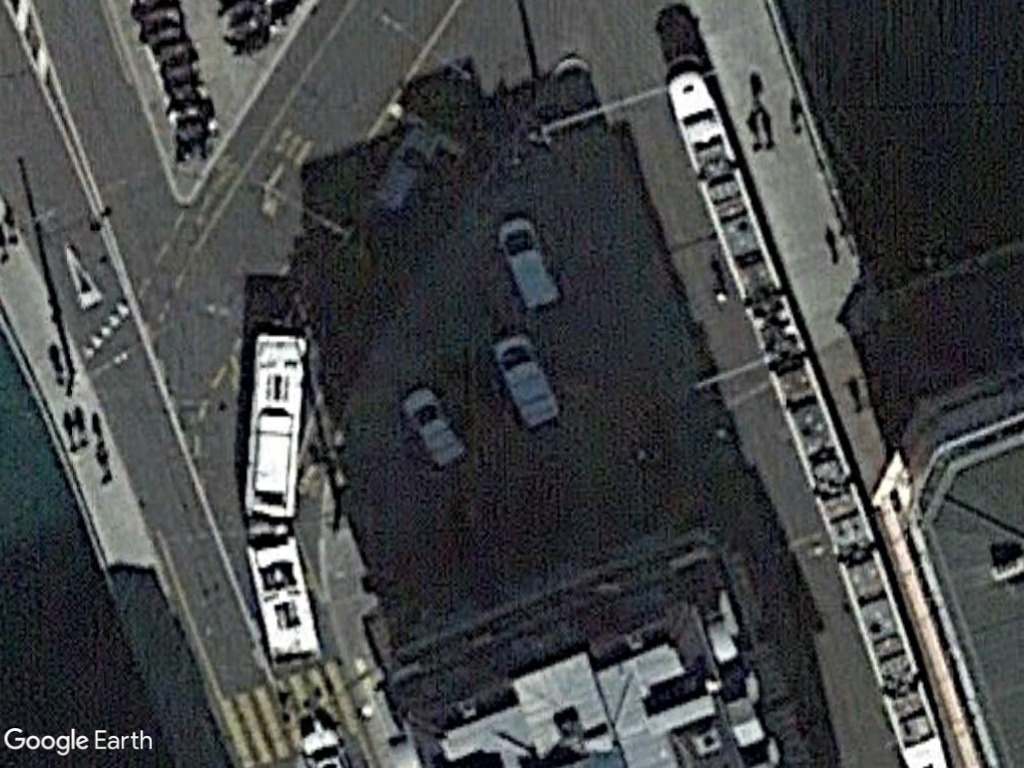bus: (240, 324, 309, 527)
van: (491, 331, 564, 432), (493, 214, 563, 314), (400, 382, 470, 471)
